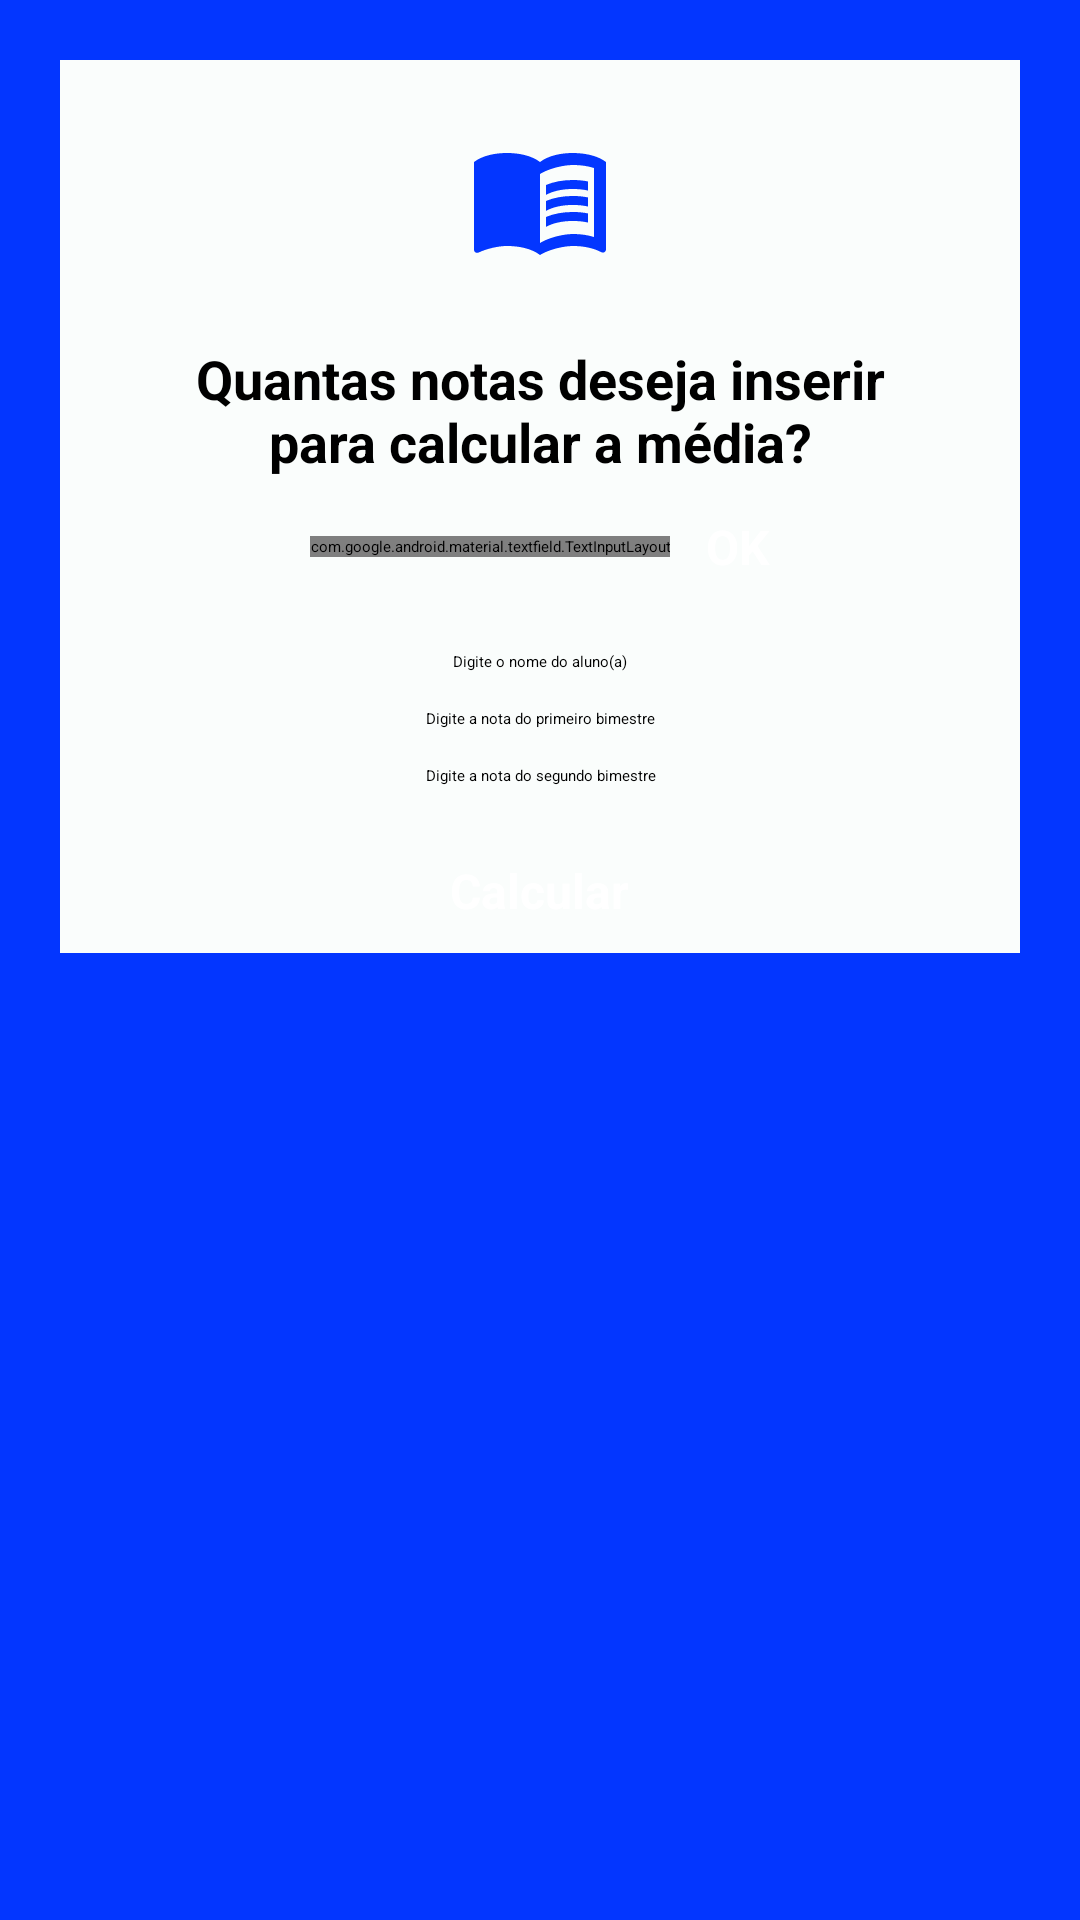

Where to tap for icons on this 1080px×1920px app screen, as point (x, y):
book: point (540, 204)
